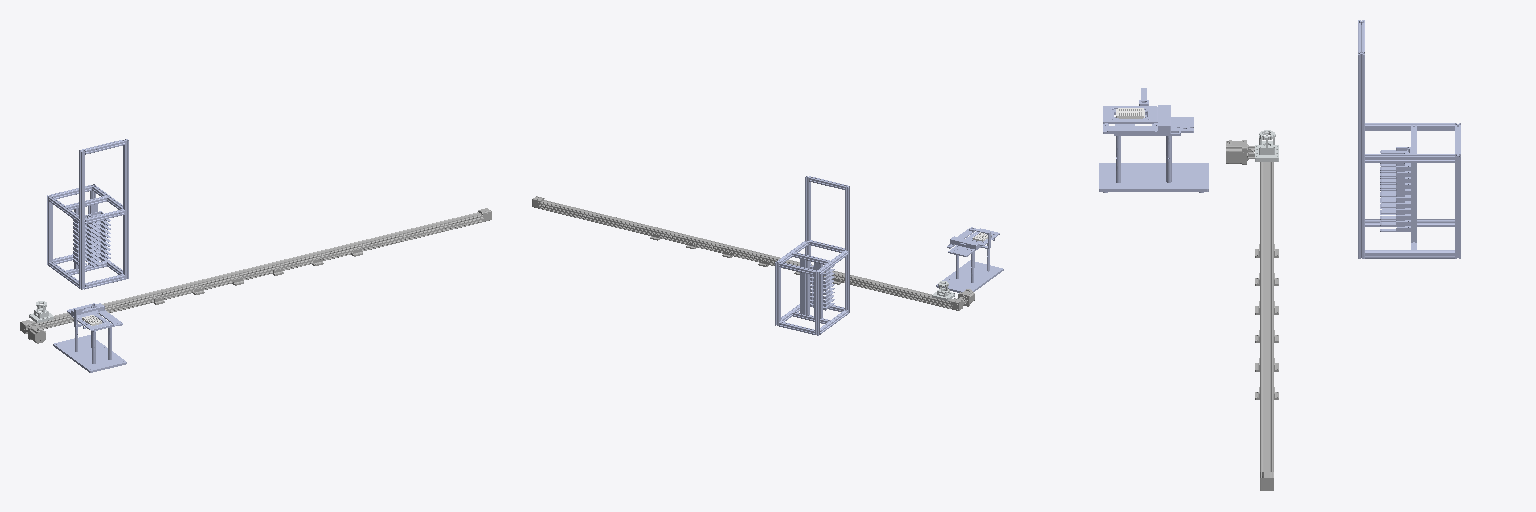
URDF robot description (digital_twin_lab-4):
<?xml version="1.0" encoding="utf-8"?>
<!-- This URDF was automatically created by SolidWorks to URDF Exporter! Originally created by [author] ([email redacted]) 
     Commit Version: 1.6.0-4-g7f85cfe  Build Version: 1.6.7995.38578
     For more information, please see http://wiki.ros.org/sw_urdf_exporter -->
<robot
  name="digital_twin_lab-4">
  <link
    name="base_link">
    <inertial>
      <origin
        xyz="1.78900440586769 -0.881080760642453 -0.1165449489918"
        rpy="0 0 0" />
      <mass
        value="199.608158242893" />
      <inertia
        ixx="10.5666582157859"
        ixy="1.27793035818756E-10"
        ixz="2.8219698966173E-10"
        iyy="42.9924156247688"
        iyz="5.91605791087923E-11"
        izz="52.3672725427773" />
    </inertial>
    <visual>
      <origin
        xyz="0 0 0"
        rpy="0 0 0" />
      <geometry>
        <mesh
          filename="package://digital_twin_lab-4/meshes/base_link.STL" />
      </geometry>
      <material
        name="">
        <color
          rgba="0.752941176470588 0.752941176470588 0.752941176470588 1" />
      </material>
    </visual>
    <collision>
      <origin
        xyz="0 0 0"
        rpy="0 0 0" />
      <geometry>
        <mesh
          filename="package://digital_twin_lab-4/meshes/base_link.STL" />
      </geometry>
    </collision>
  </link>
  <link
    name="slide-rail">
    <inertial>
      <origin
        xyz="-1.43995243789554 -0.866665161394356 -0.200928921167978"
        rpy="0 0 0" />
      <mass
        value="9.10141973800343" />
      <inertia
        ixx="0.00462584403154433"
        ixy="-2.47766910593191E-07"
        ixz="2.22783567848481E-08"
        iyy="7.2200527077908"
        iyz="6.58677957713715E-06"
        izz="7.22100259175683" />
    </inertial>
    <visual>
      <origin
        xyz="0 0 0"
        rpy="0 0 0" />
      <geometry>
        <mesh
          filename="package://digital_twin_lab-4/meshes/slide-rail.STL" />
      </geometry>
      <material
        name="">
        <color
          rgba="0.752941176470588 0.752941176470588 0.752941176470588 1" />
      </material>
    </visual>
    <collision>
      <origin
        xyz="0 0 0"
        rpy="0 0 0" />
      <geometry>
        <mesh
          filename="package://digital_twin_lab-4/meshes/slide-rail.STL" />
      </geometry>
    </collision>
  </link>
  <joint
    name="slide-rail-j"
    type="fixed">
    <origin
      xyz="3.08771486040588 -0.0803389725836143 0.244946823793314"
      rpy="0 0 0" />
    <parent
      link="base_link" />
    <child
      link="slide-rail" />
    <axis
      xyz="0 0 0" />
  </joint>
  <link
    name="slide">
    <inertial>
      <origin
        xyz="0.0726026016397733 0.00430886913851669 0.0405868162079005"
        rpy="0 0 0" />
      <mass
        value="0.419983323514114" />
      <inertia
        ixx="0.000608866562581119"
        ixy="2.9612249255929E-10"
        ixz="1.13485370520592E-09"
        iyy="0.000510747138587582"
        iyz="-1.16613327497699E-06"
        izz="0.00103925065608287" />
    </inertial>
    <visual>
      <origin
        xyz="0 0 0"
        rpy="0 0 0" />
      <geometry>
        <mesh
          filename="package://digital_twin_lab-4/meshes/slide.STL" />
      </geometry>
      <material
        name="">
        <color
          rgba="1 1 1 1" />
      </material>
    </visual>
    <collision>
      <origin
        xyz="0 0 0"
        rpy="0 0 0" />
      <geometry>
        <mesh
          filename="package://digital_twin_lab-4/meshes/slide.STL" />
      </geometry>
    </collision>
  </link>
  <joint
    name="slide-j"
    type="prismatic">
    <origin
      xyz="0.0816343147052204 -0.941639598555333 0.0334470853841981"
      rpy="0 0 0" />
    <parent
      link="base_link" />
    <child
      link="slide" />
    <axis
      xyz="-1 0 0" />
    <limit
      lower="-3.5"
      upper="0"
      effort="0"
      velocity="0" />
  </joint>
  <link
    name="arm-base">
    <inertial>
      <origin
        xyz="0.000205373054773333 -0.000243961116325409 0.0213915629117625"
        rpy="0 0 0" />
      <mass
        value="0.722677101161878" />
      <inertia
        ixx="0.000757508587612383"
        ixy="1.73072500581096E-06"
        ixz="3.13488589429113E-07"
        iyy="0.00100766511534247"
        iyz="-3.27512905316407E-07"
        izz="0.00170957147679652" />
    </inertial>
    <visual>
      <origin
        xyz="0 0 0"
        rpy="0 0 0" />
      <geometry>
        <mesh
          filename="package://digital_twin_lab-4/meshes/arm-base.STL" />
      </geometry>
      <material
        name="">
        <color
          rgba="0.898039215686275 0.917647058823529 0.929411764705882 1" />
      </material>
    </visual>
    <collision>
      <origin
        xyz="0 0 0"
        rpy="0 0 0" />
      <geometry>
        <mesh
          filename="package://digital_twin_lab-4/meshes/arm-base.STL" />
      </geometry>
    </collision>
  </link>
  <joint
    name="arm-base-j"
    type="fixed">
    <origin
      xyz="0.0725270285681471 0.00413959636703953 0.0557629137973782"
      rpy="0 0 0" />
    <parent
      link="slide" />
    <child
      link="arm-base" />
    <axis
      xyz="0 0 0" />
  </joint>
  <link
    name="squid">
    <inertial>
      <origin
        xyz="-0.145539076490268 -1.09899662017959 0.107670525984125"
        rpy="0 0 0" />
      <mass
        value="3.63619504672604" />
      <inertia
        ixx="0.0528314659485866"
        ixy="0.0002828926831766"
        ixz="3.98656771778692E-06"
        iyy="0.0195251698514204"
        iyz="6.61872461978163E-07"
        izz="0.0673167761503225" />
    </inertial>
    <visual>
      <origin
        xyz="0 0 0"
        rpy="0 0 0" />
      <geometry>
        <mesh
          filename="package://digital_twin_lab-4/meshes/squid.STL" />
      </geometry>
      <material
        name="">
        <color
          rgba="0.792156862745098 0.819607843137255 0.933333333333333 1" />
      </material>
    </visual>
    <collision>
      <origin
        xyz="0 0 0"
        rpy="0 0 0" />
      <geometry>
        <mesh
          filename="package://digital_twin_lab-4/meshes/squid.STL" />
      </geometry>
    </collision>
  </link>
  <joint
    name="squid-j"
    type="fixed">
    <origin
      xyz="0.372639557589471 -0.359158562952015 0.00929027600838317"
      rpy="0 0 0" />
    <parent
      link="base_link" />
    <child
      link="squid" />
    <axis
      xyz="0 0 0" />
  </joint>
  <link
    name="incubator">
    <inertial>
      <origin
        xyz="0.14856747493369 0.182353009501485 0.299375603156406"
        rpy="0 0 0" />
      <mass
        value="4.15140484031969" />
      <inertia
        ixx="0.0412959434046889"
        ixy="-2.87903526561391E-05"
        ixz="-2.28349994456601E-06"
        iyy="0.0392968101240738"
        iyz="-9.74814592294174E-05"
        izz="0.0175131319455678" />
    </inertial>
    <visual>
      <origin
        xyz="0 0 0"
        rpy="0 0 0" />
      <geometry>
        <mesh
          filename="package://digital_twin_lab-4/meshes/incubator.STL" />
      </geometry>
      <material
        name="">
        <color
          rgba="0.792156862745098 0.819607843137255 0.933333333333333 1" />
      </material>
    </visual>
    <collision>
      <origin
        xyz="0 0 0"
        rpy="0 0 0" />
      <geometry>
        <mesh
          filename="package://digital_twin_lab-4/meshes/incubator.STL" />
      </geometry>
    </collision>
  </link>
  <joint
    name="incubator-j"
    type="fixed">
    <origin
      xyz="0.720988669677961 -0.517519961048278 0.0161152356721954"
      rpy="0 0 0" />
    <parent
      link="base_link" />
    <child
      link="incubator" />
    <axis
      xyz="0 0 0" />
  </joint>
  <link
    name="1">
    <inertial>
      <origin
        xyz="4.59589526852766E-05 7.0532832383785E-05 0.00753805993131673"
        rpy="0 0 0" />
      <mass
        value="0.0868244944825262" />
      <inertia
        ixx="0.000126271352614738"
        ixy="2.40742980190978E-07"
        ixz="-8.29625367427881E-09"
        iyy="5.64144498466677E-05"
        iyz="-1.27388068981493E-08"
        izz="0.000180549328693109" />
    </inertial>
    <visual>
      <origin
        xyz="0 0 0"
        rpy="0 0 0" />
      <geometry>
        <mesh
          filename="package://digital_twin_lab-4/meshes/1.STL" />
      </geometry>
      <material
        name="">
        <color
          rgba="1 1 1 1" />
      </material>
    </visual>
    <collision>
      <origin
        xyz="0 0 0"
        rpy="0 0 0" />
      <geometry>
        <mesh
          filename="package://digital_twin_lab-4/meshes/1.STL" />
      </geometry>
    </collision>
  </link>
  <joint
    name="1j"
    type="fixed">
    <origin
      xyz="0.186938148871609 -1.54609976894629 0.302906827198127"
      rpy="0 0 0" />
    <parent
      link="base_link" />
    <child
      link="1" />
    <axis
      xyz="0 0 0" />
  </joint>
  <link
    name="2">
    <inertial>
      <origin
        xyz="4.59589526854431E-05 7.05328323838406E-05 0.00753805993131676"
        rpy="0 0 0" />
      <mass
        value="0.0868244944825264" />
      <inertia
        ixx="0.000126271352614737"
        ixy="2.40742980190993E-07"
        ixz="-8.29625367428794E-09"
        iyy="5.64144498466677E-05"
        iyz="-1.27388068981641E-08"
        izz="0.000180549328693109" />
    </inertial>
    <visual>
      <origin
        xyz="0 0 0"
        rpy="0 0 0" />
      <geometry>
        <mesh
          filename="package://digital_twin_lab-4/meshes/2.STL" />
      </geometry>
      <material
        name="">
        <color
          rgba="1 1 1 1" />
      </material>
    </visual>
    <collision>
      <origin
        xyz="0 0 0"
        rpy="0 0 0" />
      <geometry>
        <mesh
          filename="package://digital_twin_lab-4/meshes/2.STL" />
      </geometry>
    </collision>
  </link>
  <joint
    name="2j"
    type="fixed">
    <origin
      xyz="0.813073148349912 -0.375034358450601 0.100266923263157"
      rpy="0 0 0" />
    <parent
      link="base_link" />
    <child
      link="2" />
    <axis
      xyz="0 0 0" />
  </joint>
  <link
    name="3">
    <inertial>
      <origin
        xyz="4.59589526853321E-05 7.05328323838961E-05 0.00753805993131677"
        rpy="0 0 0" />
      <mass
        value="0.0868244944825265" />
      <inertia
        ixx="0.000126271352614737"
        ixy="2.40742980191003E-07"
        ixz="-8.29625367427687E-09"
        iyy="5.64144498466678E-05"
        iyz="-1.27388068981656E-08"
        izz="0.000180549328693109" />
    </inertial>
    <visual>
      <origin
        xyz="0 0 0"
        rpy="0 0 0" />
      <geometry>
        <mesh
          filename="package://digital_twin_lab-4/meshes/3.STL" />
      </geometry>
      <material
        name="">
        <color
          rgba="1 1 1 1" />
      </material>
    </visual>
    <collision>
      <origin
        xyz="0 0 0"
        rpy="0 0 0" />
      <geometry>
        <mesh
          filename="package://digital_twin_lab-4/meshes/3.STL" />
      </geometry>
    </collision>
  </link>
  <joint
    name="3j"
    type="fixed">
    <origin
      xyz="0.922439977066649 -0.375034358450601 0.100266923263157"
      rpy="0 0 0" />
    <parent
      link="base_link" />
    <child
      link="3" />
    <axis
      xyz="0 0 0" />
  </joint>
</robot>

--- Facts derived from the render (not from the file) ---
Views: 3 orthographic renders of the robot side by side, from view 1: azimuth 30°, elevation 25°; view 2: azimuth 150°, elevation 25°; view 3: azimuth 270°, elevation 25°.
Robot: digital_twin_lab-4 — 9 links, 8 joints (1 prismatic, 7 fixed); root link base_link; default pose: every joint at zero.
Visible links, largest first — view 1: incubator, slide-rail, squid; view 2: incubator, slide-rail, squid; view 3: incubator, slide-rail, squid, arm-base.
Boxes of the visible links, box(x1,y1,x2,y2) form: incubator: box(47, 139, 128, 289); slide-rail: box(20, 208, 491, 343); squid: box(53, 303, 126, 372); incubator: box(775, 176, 849, 335); slide-rail: box(532, 196, 974, 310); squid: box(936, 227, 1003, 292); incubator: box(1358, 20, 1460, 258); slide-rail: box(1226, 140, 1278, 490); squid: box(1099, 88, 1208, 192); arm-base: box(1255, 130, 1278, 161).
Size in the robot's own frame: 3.54 by 1.62 by 1 metres.
Meshes: 9 distinct files referenced, 5 mesh visuals loaded (5 binary STL); not drawn: 4 (reference not matched to a file when rendering).